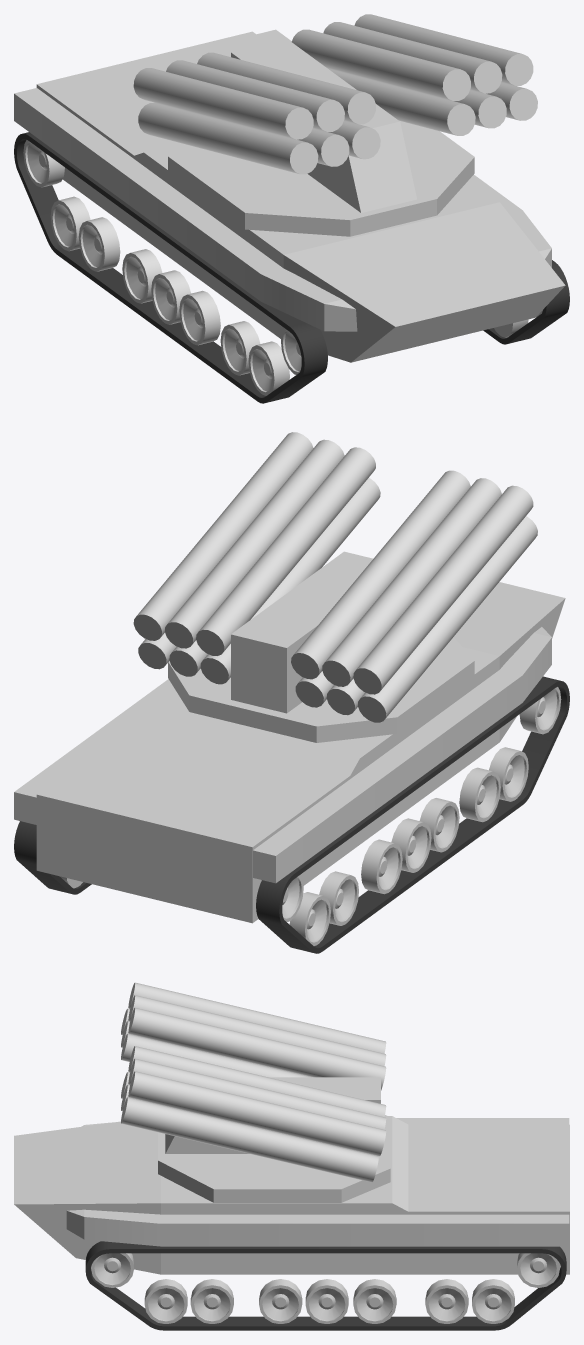
The model's file is TestAA.fbx.
The picture shows the model from 3 angles, top to bottom: view 1: azimuth 30°, elevation 25°; view 2: azimuth 150°, elevation 25°; view 3: azimuth 270°, elevation 25°; orthographic projection. The views are drawn at different scales.
Visible parts, largest first — view 1: 立方体.014, AA, 立方体.013; view 2: 立方体.014, AA, 立方体.013; view 3: 立方体.014, AA, 立方体.013.
Boxes of the visible parts, left/top/right/bottom form: 立方体.014: left=14, top=29, right=565, bottom=395; AA: left=133, top=14, right=537, bottom=236; 立方体.013: left=14, top=132, right=569, bottom=403; 立方体.014: left=14, top=582, right=565, bottom=945; AA: left=133, top=432, right=537, bottom=742; 立方体.013: left=14, top=676, right=569, bottom=953; 立方体.014: left=14, top=1116, right=569, bottom=1323; AA: left=121, top=982, right=390, bottom=1202; 立方体.013: left=85, top=1241, right=566, bottom=1330.
Bounding box in the file's own units: 542 × 587 × 1189.
2 materials, 1 textured.
